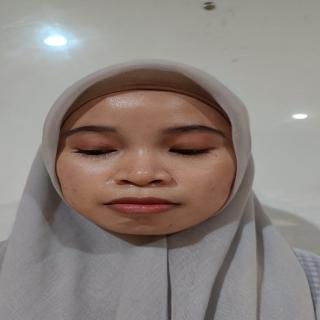Sedih: (49, 75, 247, 251)
